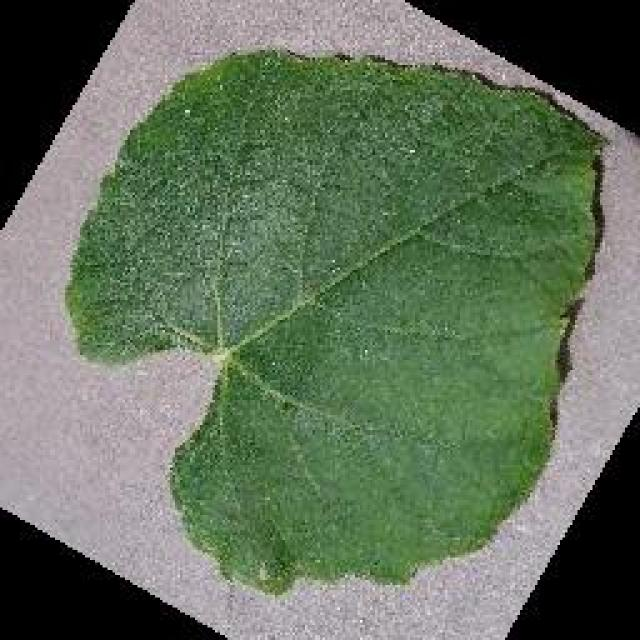Grape___healthy: (68, 50, 600, 592)
